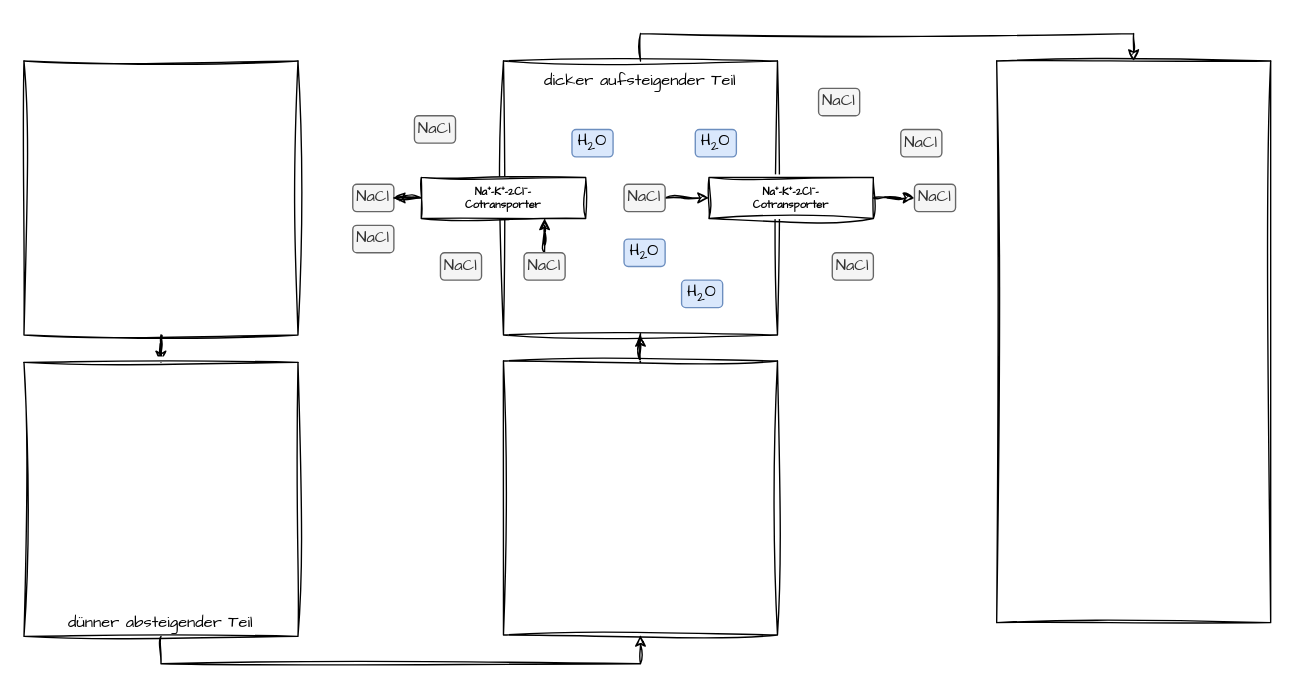
Some shapes in this 1295 by 699 pixel diagram are drawn without their labels. Each missing label, with the box of its shape:
dicker absteigender Teil: (23, 60, 298, 335)
dünner aufsteigender Teil: (502, 360, 777, 635)
Sammelrohr: (995, 60, 1271, 623)
